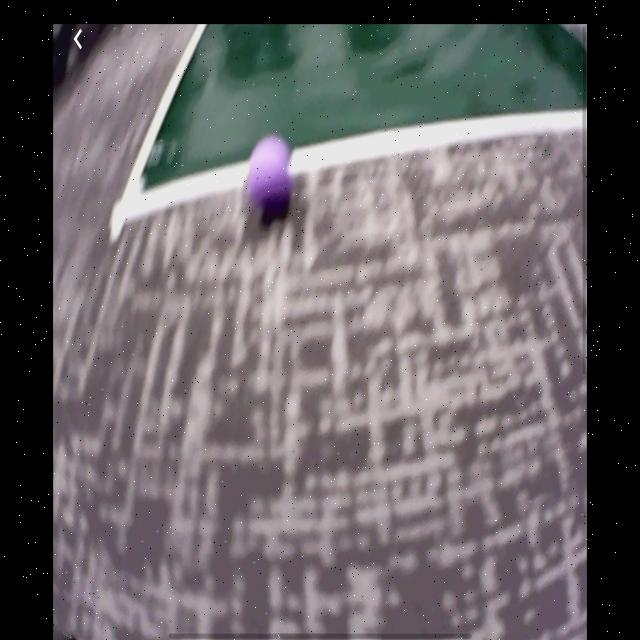ball: (247, 134, 294, 228)
